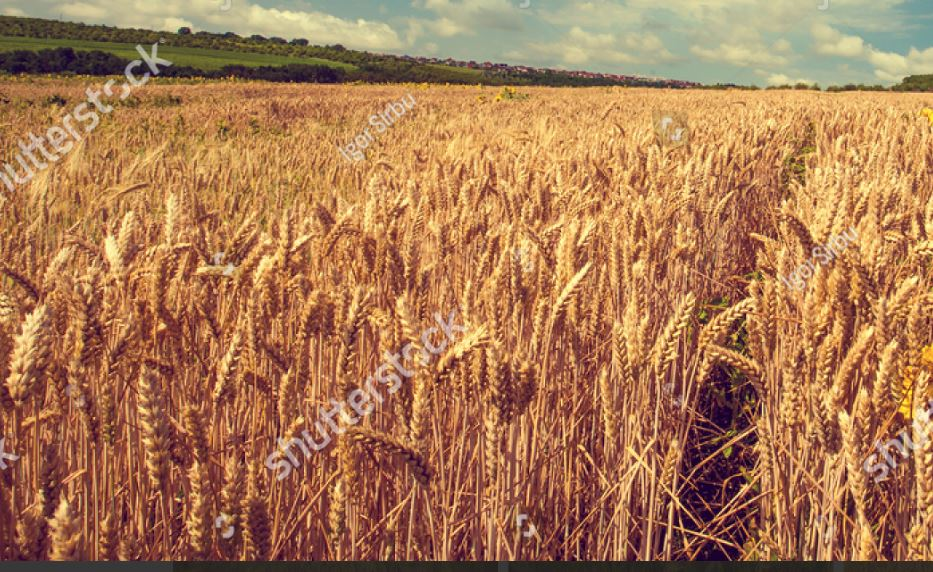Wheat: (66, 188, 243, 457)
